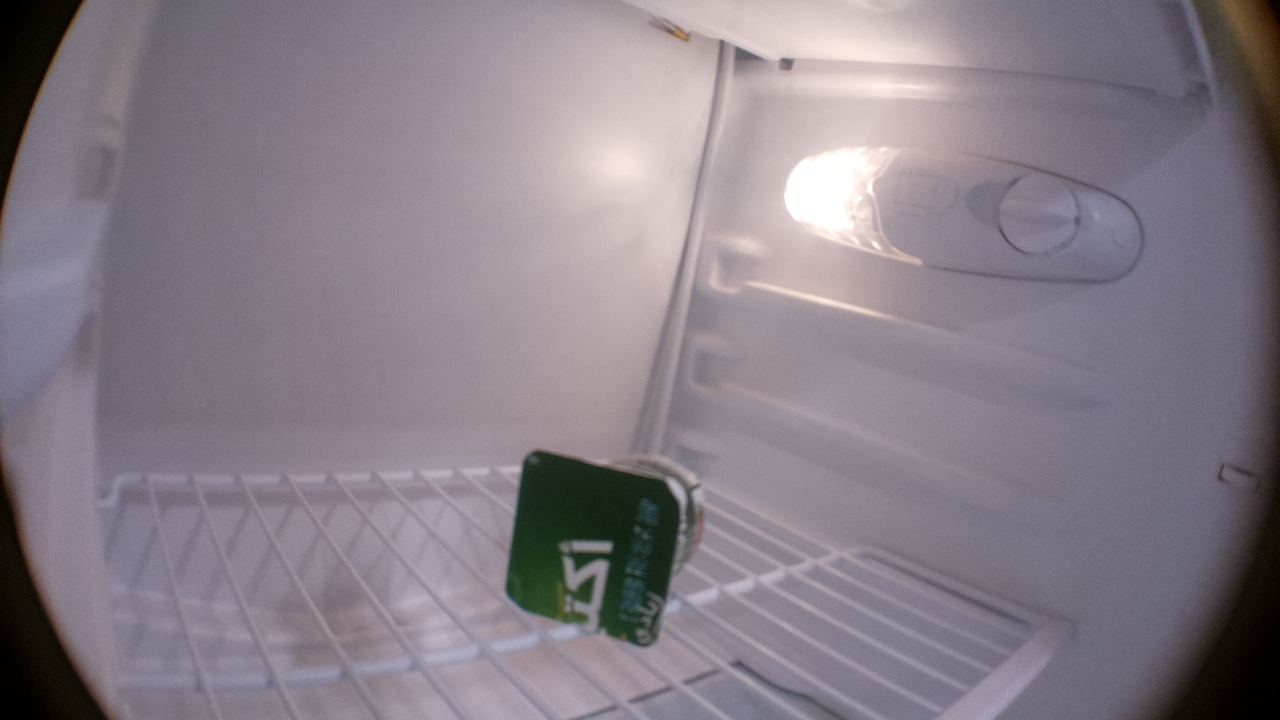yoghurt: (503, 448, 708, 651)
